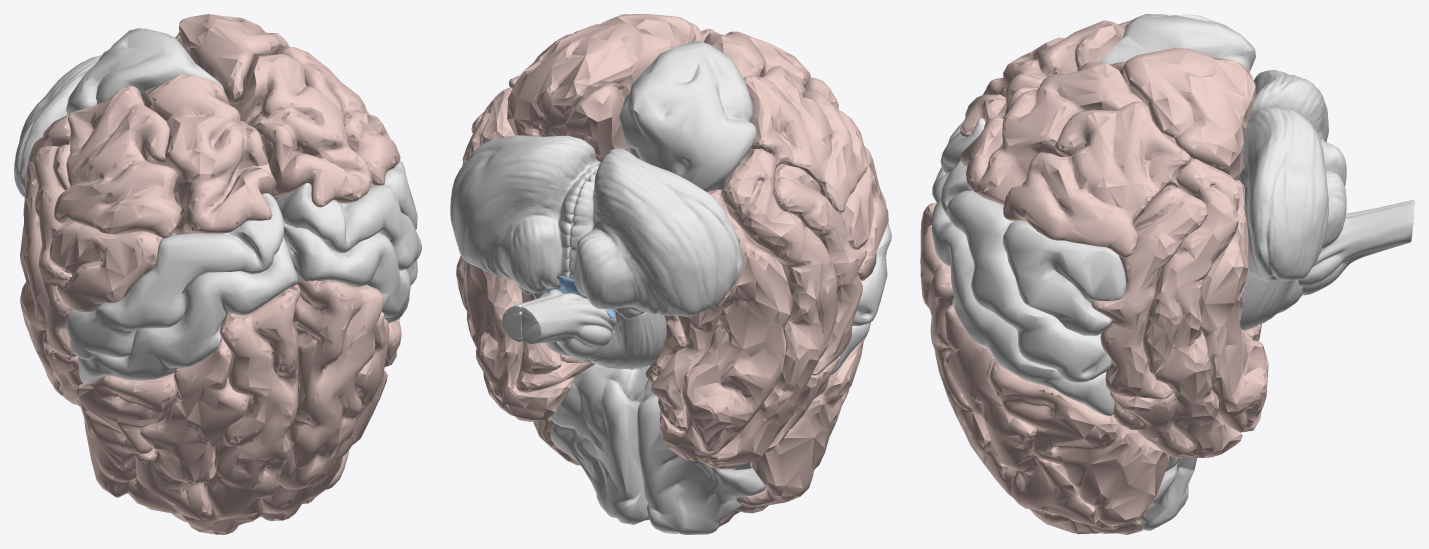
Rendered from brain_complete.draco.glb.
3 views of the same model, side by side, from view 1: azimuth 30°, elevation 25°; view 2: azimuth 150°, elevation 25°; view 3: azimuth 270°, elevation 25° (orthographic). The views are drawn at different scales.
Parts seen in each view (by area): view 1: left superior frontal gyrus, right superior frontal gyrus, segment of cerebral hemisphere.001, right superior parietal lobule, left superior parietal lobule, right postcentral gyrus, right middle frontal gyrus, right precentral gyrus, right inferior frontal gyrus, right supramarginal gyrus, left postcentral gyrus, left precentral gyrus (+10 smaller); view 2: right cerebellum, left cerebellum, right inferior temporal gyrus, right middle temporal gyrus, right occipital lobe, segment of cerebral hemisphere.008, left orbital gyrus, segment of cerebral hemisphere.001, right orbital gyrus, left inferior temporal gyrus, right inferior frontal gyrus, posterior part of right superior temporal gyrus (+13 smaller); view 3: segment of cerebral hemisphere, left middle temporal gyrus, left cerebellum, left inferior frontal gyrus, segment of cerebral hemisphere.008, left postcentral gyrus, left superior parietal lobule, posterior part of left superior temporal gyrus, left middle frontal gyrus, left supramarginal gyrus, left inferior temporal gyrus, left precentral gyrus (+9 smaller).
Boxes of the visible parts, <box> form: left superior frontal gyrus: <box>259,273,383,520</box>; right superior frontal gyrus: <box>172,284,300,534</box>; segment of cerebral hemisphere.001: <box>54,85,181,238</box>; right superior parietal lobule: <box>141,74,276,234</box>; left superior parietal lobule: <box>229,54,372,207</box>; right postcentral gyrus: <box>66,193,284,359</box>; right middle frontal gyrus: <box>128,338,249,519</box>; right precentral gyrus: <box>77,237,298,383</box>; right inferior frontal gyrus: <box>75,373,177,497</box>; right supramarginal gyrus: <box>49,220,175,312</box>; left postcentral gyrus: <box>275,183,421,284</box>; left precentral gyrus: <box>283,222,410,322</box>; right cerebellum: <box>569,148,742,318</box>; left cerebellum: <box>450,135,600,294</box>; right inferior temporal gyrus: <box>659,189,792,460</box>; right middle temporal gyrus: <box>704,149,837,465</box>; right occipital lobe: <box>618,41,756,192</box>; segment of cerebral hemisphere.008: <box>507,23,676,161</box>; left orbital gyrus: <box>549,363,650,524</box>; segment of cerebral hemisphere.001: <box>743,66,867,212</box>; right orbital gyrus: <box>637,379,766,534</box>; left inferior temporal gyrus: <box>463,260,574,420</box>; right inferior frontal gyrus: <box>736,333,867,507</box>; posterior part of right superior temporal gyrus: <box>773,163,867,375</box>; segment of cerebral hemisphere: <box>1003,101,1190,258</box>; left middle temporal gyrus: <box>1142,159,1242,457</box>; left cerebellum: <box>1238,107,1346,281</box>; left inferior frontal gyrus: <box>990,361,1169,526</box>; segment of cerebral hemisphere.008: <box>1109,48,1255,189</box>; left postcentral gyrus: <box>940,160,1111,382</box>; left superior parietal lobule: <box>960,61,1142,204</box>; posterior part of left superior temporal gyrus: <box>1091,185,1207,399</box>; left middle frontal gyrus: <box>944,304,1125,529</box>; left supramarginal gyrus: <box>1002,220,1126,335</box>; left inferior temporal gyrus: <box>1200,179,1268,432</box>; left precentral gyrus: <box>931,199,1114,415</box>.
Bounding box in the file's own units: 141 × 180 × 166.
